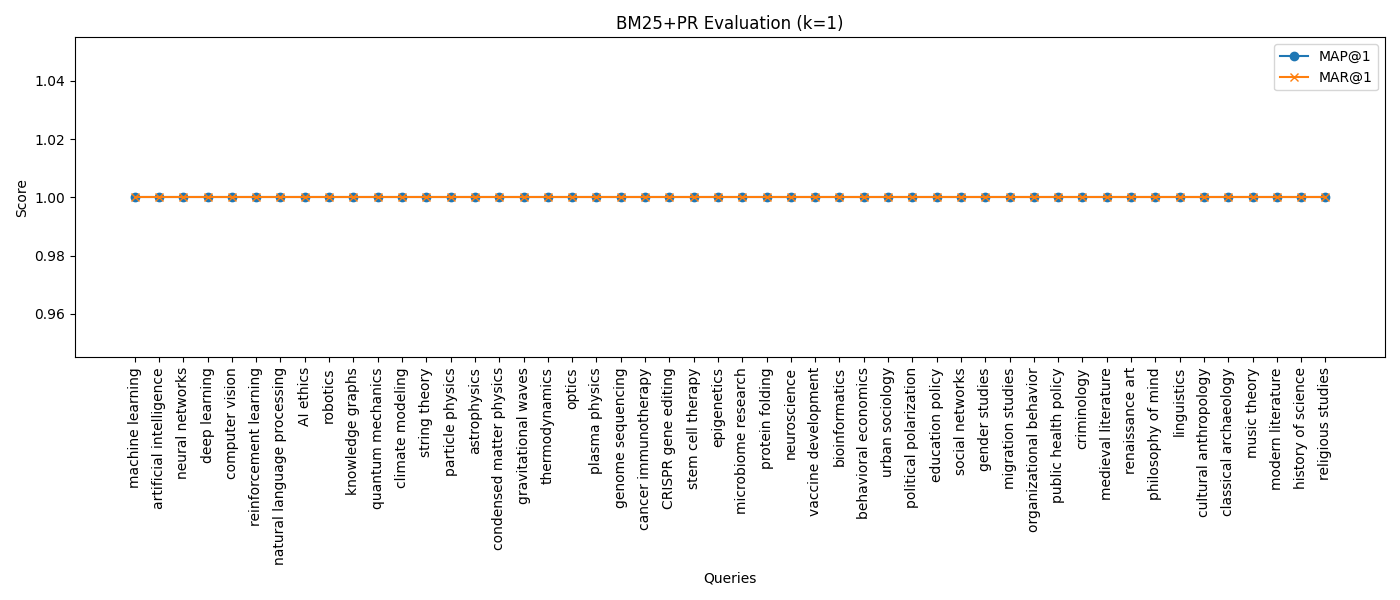

The page's visual inventory and layout, read from the dashboard file:
{"tool":"tableau","page":{"name":"Dashboard 1","canvas":[1000,1000],"units":"permille","ordinal":0},"visuals":[{"type":"worksheet","title":"Sheet 3","mark":"Line","rows":["spearman_per_year"],"cols":["Year_as_format"],"box":[15.2,29.2,453.5,943.9]}]}

Visuals, with their boxes on the dashboard's canvas, which has no fixed pixel size, in thousandths of its width and height (x1, y1, x2, y2). These are canvas units, not pixel positions in the 1400x600 screenshot, which may show the page scaled, cropped or inside an application window:
"Sheet 3" worksheet (Line marks): bbox(15, 29, 469, 973)
